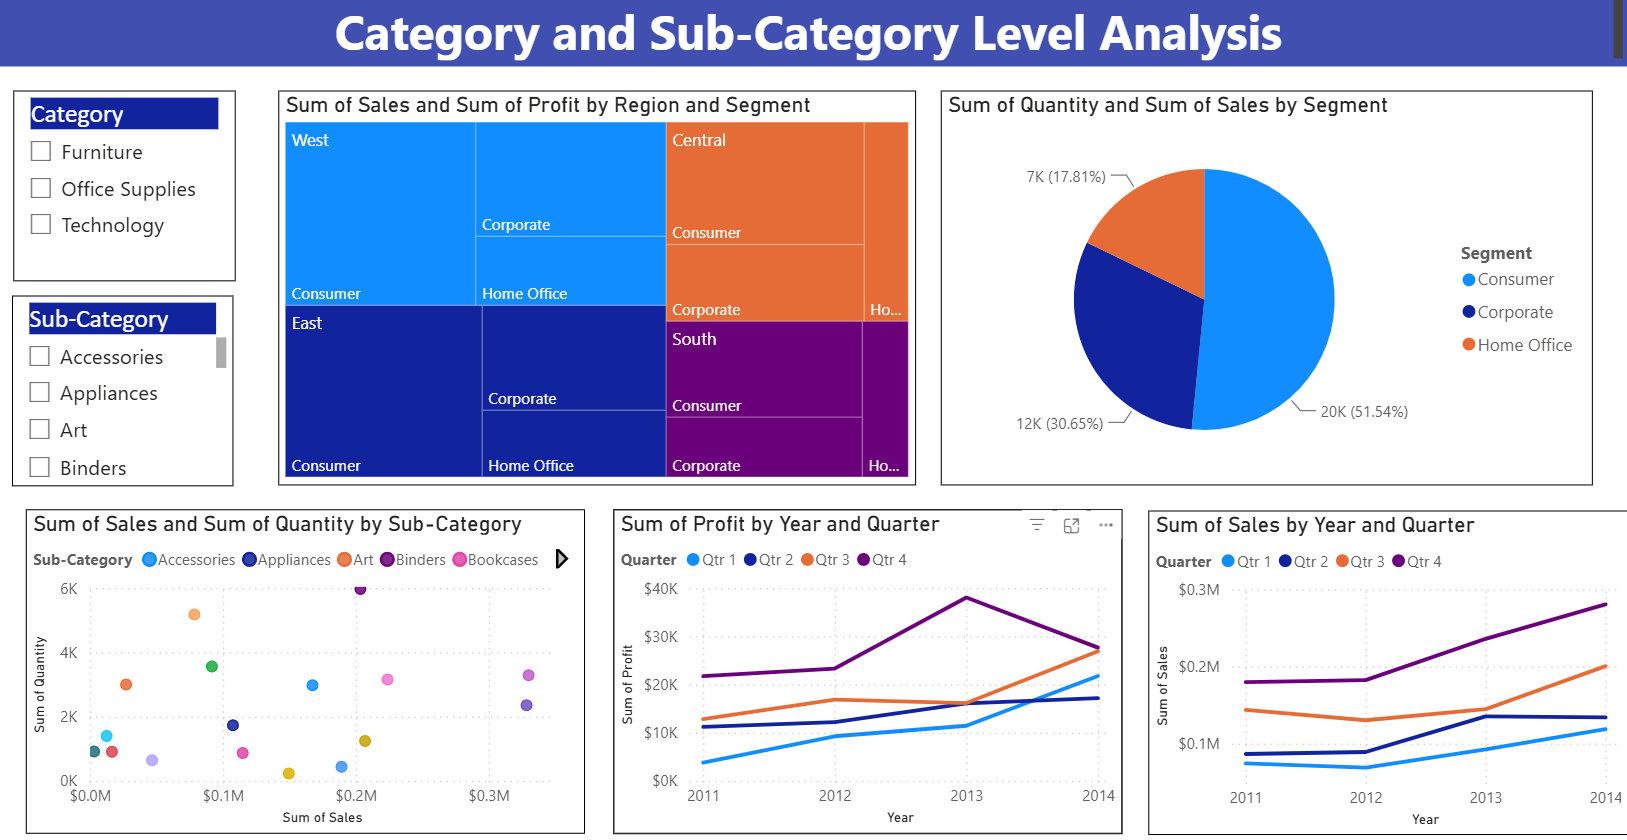

The page's visual inventory and layout, read from the dashboard file:
{"tool":"powerbi","page":{"name":"Category and Sub-Category","canvas":[1280,720],"ordinal":2},"visuals":[{"type":"textbox","box":[0,0,1280.3,57.6],"z":0},{"type":"slicer","fields":{"Values":["Orders.Category"]},"box":[12.3,76.8,174.3,149.6],"z":1000},{"type":"slicer","fields":{"Values":["Orders.Sub-Category"]},"box":[12.1,236.7,173.5,149.3],"z":2000},{"type":"treemap","fields":{"Group":["Orders.Region"],"Details":["Orders.Segment"],"Values":["Sum(Orders.Sales)"]},"box":[220.6,76.7,500.3,309.3],"z":3000},{"type":"pieChart","fields":{"Category":["Orders.Segment"],"Y":["Sum(Orders.Quantity)"]},"box":[739.7,76.7,511,309.3],"z":4000},{"type":"scatterChart","fields":{"X":["Sum(Orders.Sales)"],"Y":["Sum(Orders.Quantity)"],"Series":["Orders.Sub-Category"]},"box":[22.9,404.8,438.4,254.2],"z":5000},{"type":"lineChart","fields":{"Category":["Orders.Year"],"Series":["Orders.Quarter"],"Y":["Sum(Orders.Profit)"]},"box":[482.8,404.8,399.4,254.2],"z":6000},{"type":"lineChart","fields":{"Category":["Orders.Year"],"Series":["Orders.Quarter"],"Y":["Sum(Orders.Sales)"]},"box":[902.4,406.1,377.9,254.2],"z":7000}]}

Visuals, with their boxes on the page's 1280x720 design canvas (x1, y1, x2, y2). These are canvas units, not pixel positions in the 1627x840 screenshot, which may show the page scaled, cropped or inside an application window:
textbox: bbox(0, 0, 1280, 58)
slicer - Orders.Category: bbox(12, 77, 187, 226)
slicer - Orders.Sub-Category: bbox(12, 237, 186, 386)
treemap - Orders.Region x Orders.Segment: bbox(221, 77, 721, 386)
pieChart - Orders.Segment x Sum(Orders.Quantity): bbox(740, 77, 1251, 386)
scatterChart - Sum(Orders.Sales) x Sum(Orders.Quantity): bbox(23, 405, 461, 659)
lineChart - Orders.Year x Orders.Quarter: bbox(483, 405, 882, 659)
lineChart - Orders.Year x Orders.Quarter: bbox(902, 406, 1280, 660)
